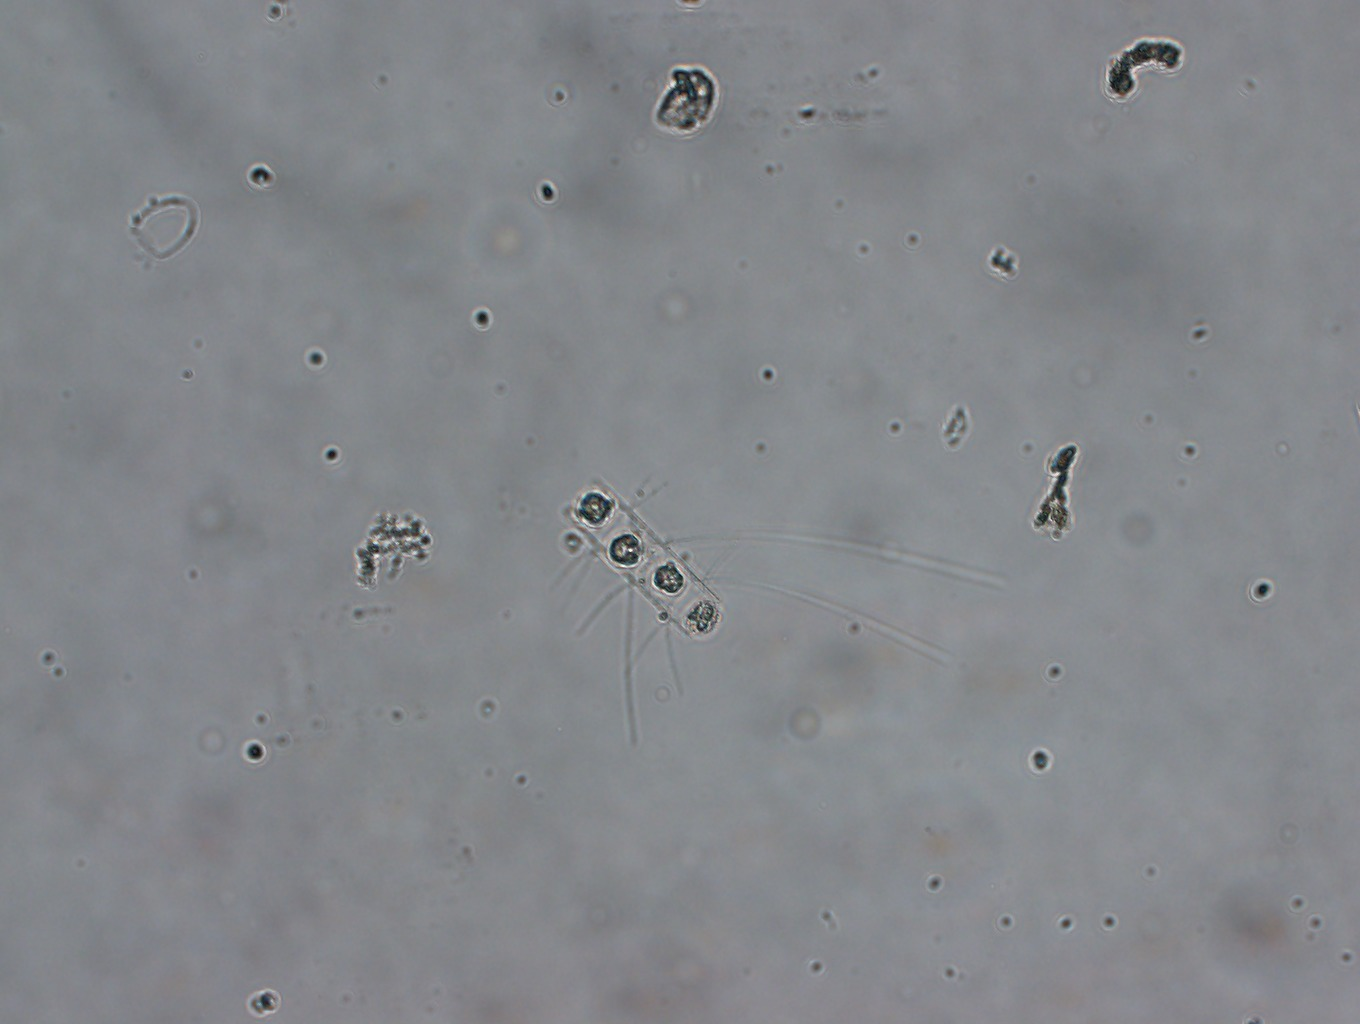chaetoceros: (524, 457, 1012, 760)
